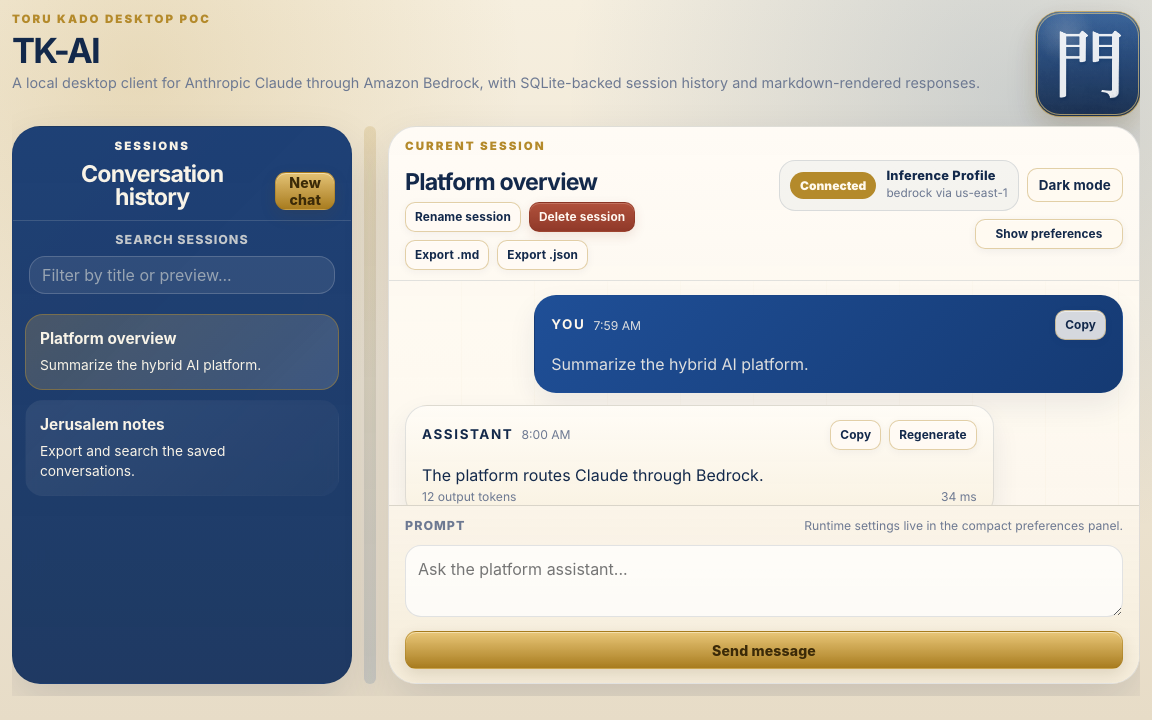
it: App layout behavior › hydrates saved conversation history for the selected session
expect the text "Connected" is shown: met, box [790,172,876,199]
expect the text "The platform routes Claude through Bedrock." is shown: met, box [422,465,764,485]
What coordinates should you click on to do the following:
click the button "Jerusalem notes Export and search the saved conversations."
I would click on:
 (182, 448)
Its box is [25,400,339,496].
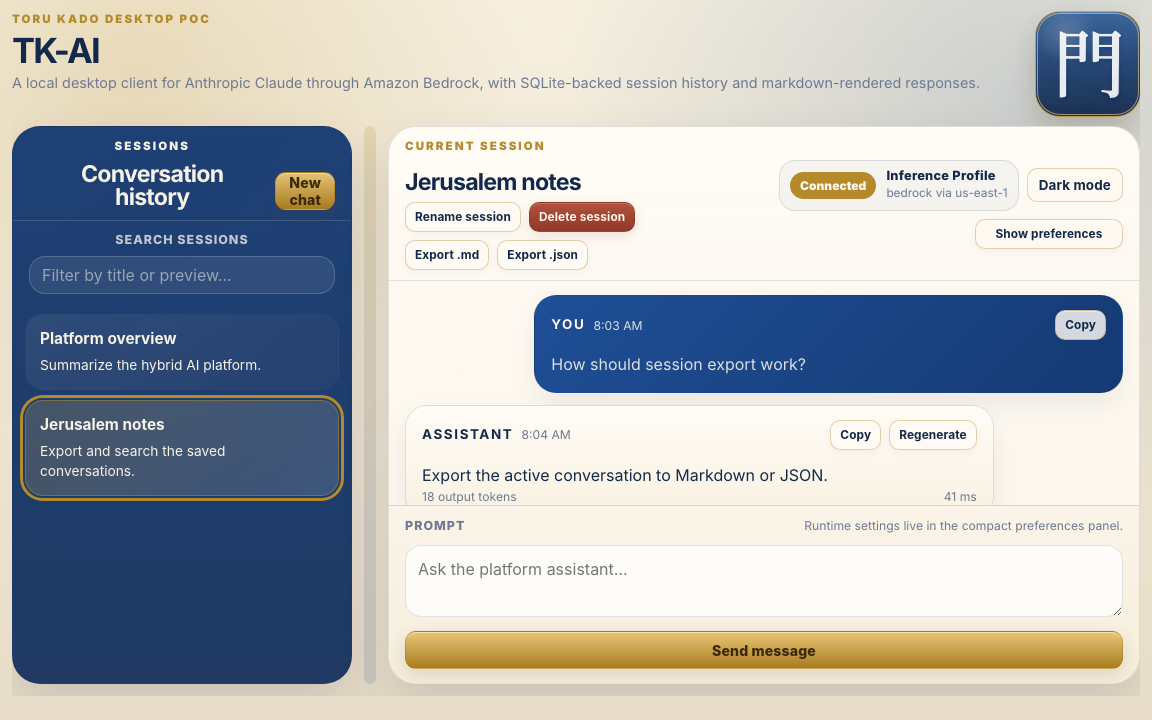
expect the text "Export the active conversation to Markdown or JSON." is shown: met, box [422,465,828,485]
